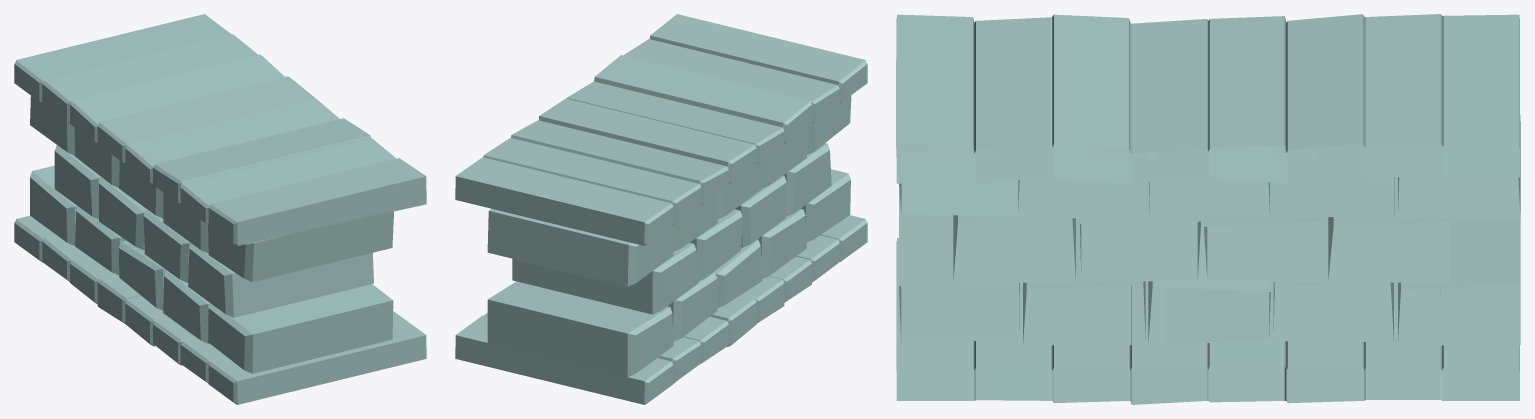
Rendered from Plataform.fbx.
3 views of the same model, side by side, from view 1: azimuth 30°, elevation 25°; view 2: azimuth 150°, elevation 25°; view 3: azimuth 270°, elevation 25° (orthographic). The views are drawn at different scales.
Visible parts, largest first — view 1: polySurface1873; view 2: polySurface1873; view 3: polySurface1873.
Part boxes in pixels (x1=…): polySurface1873: x1=14, y1=14, x2=426, y2=404; polySurface1873: x1=455, y1=14, x2=867, y2=404; polySurface1873: x1=896, y1=14, x2=1520, y2=404.
Size of the model in its own units: 1.3 by 1.21 by 2.61.
